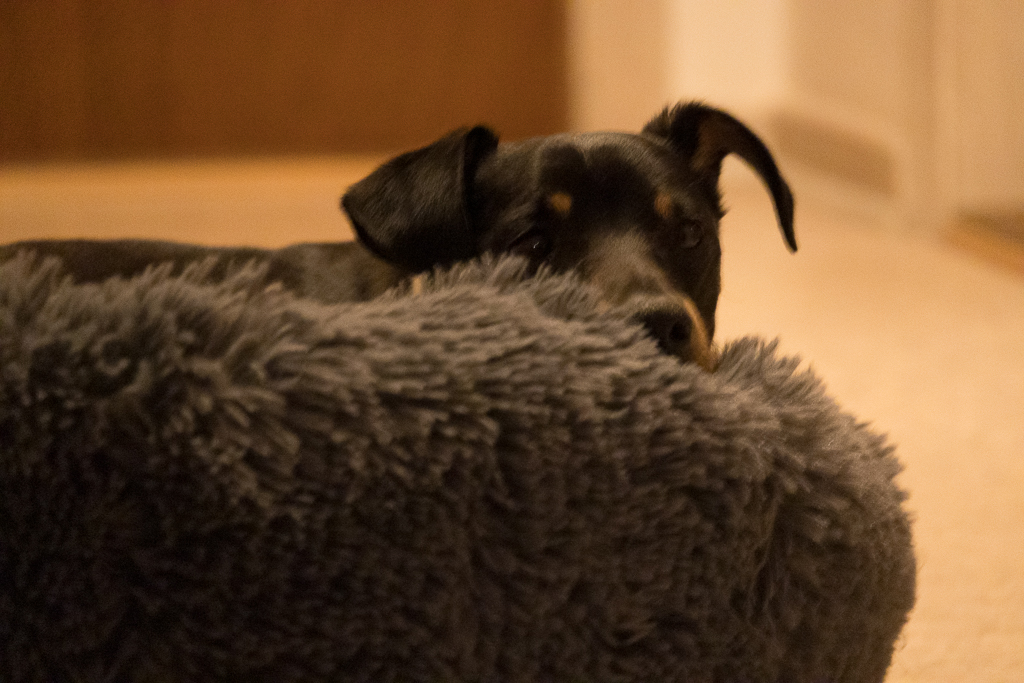Dog: (0, 90, 807, 383)
